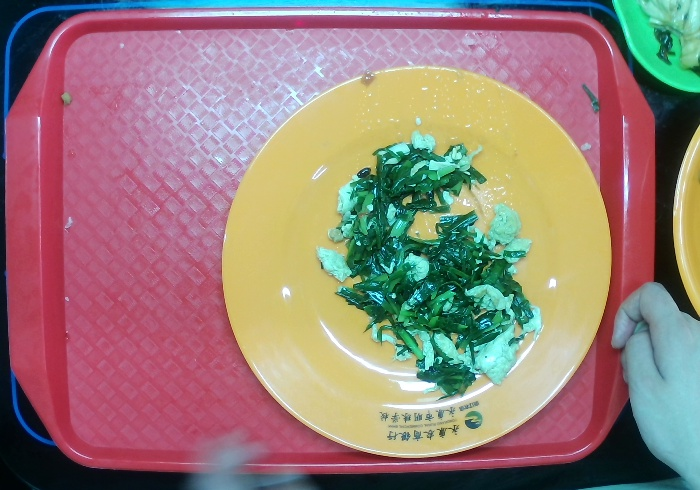YKMZ-Ju_Se_Mian_Pan: (220, 64, 613, 460)
